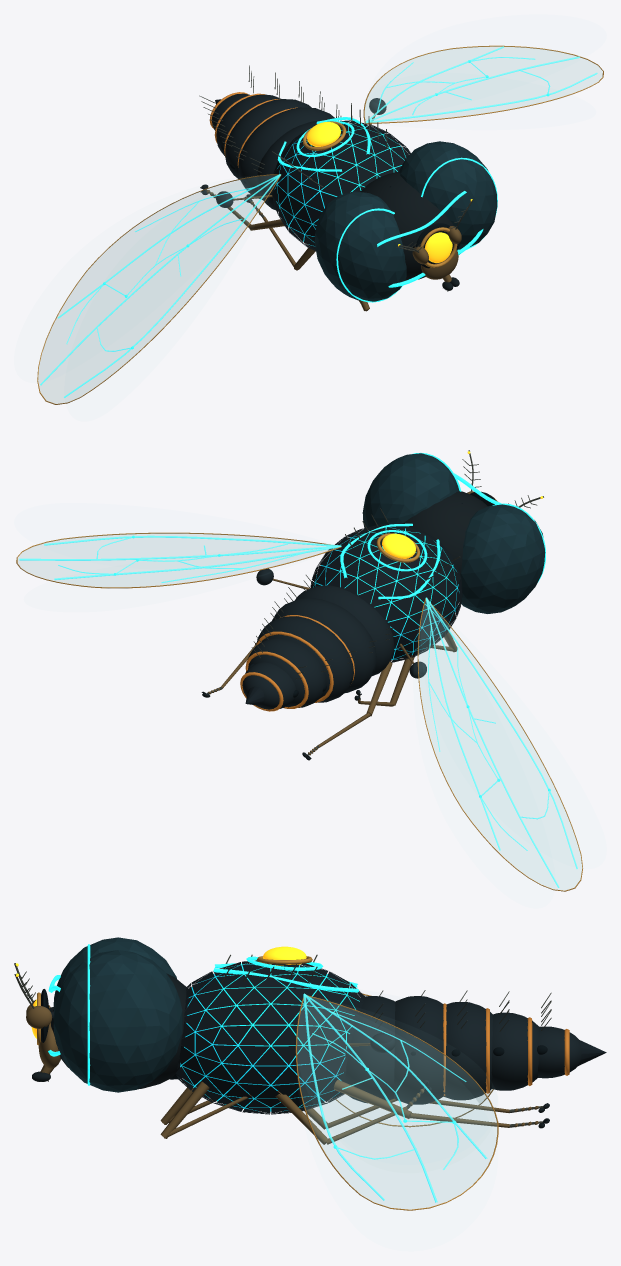
Rendered from mirror-gap-v4.3.0.glb.
3 renders of one model, top to bottom at view 1: azimuth 30°, elevation 25°; view 2: azimuth 150°, elevation 25°; view 3: azimuth 270°, elevation 25°, orthographic. The views are drawn at different scales.
Parts seen in each view (by area): view 1: Thin_wing_membrane (×2), Separate_head_Left_compound_eye_batch, Faceted_obsidian_thorax, Horizontal_segmented_abdomen_Abdominal_segment_1_batch, Head_capsule, Left_single_membrane_wing_Cyan_neural_wing_vein_1_batch, Right_single_membrane_wing_Cyan_neural_wing_vein_1_batch, Costal_wing_gold_edge (×2), Thorax_inner_cyan_fissures, Separate_head_Cyan_compound_eye_rim_batch, Thorax_pitch_and_bank_Dorsal_core_cyan_fissure_batch, Dorsal_amber_core (+2 smaller); view 2: Thin_wing_membrane (×2), Separate_head_Left_compound_eye_batch, Horizontal_segmented_abdomen_Abdominal_segment_1_batch, Faceted_obsidian_thorax, Right_single_membrane_wing_Cyan_neural_wing_vein_1_batch, Head_capsule, Left_single_membrane_wing_Cyan_neural_wing_vein_1_batch, Costal_wing_gold_edge (×2), Thorax_inner_cyan_fissures, Horizontal_segmented_abdomen_Amber_tergite_seam_1_batch, Thorax_pitch_and_bank_Dorsal_core_cyan_fissure_batch, Dorsal_amber_core; view 3: Thin_wing_membrane, Faceted_obsidian_thorax, Horizontal_segmented_abdomen_Abdominal_segment_1_batch, Separate_head_Left_compound_eye_batch, Thorax_inner_cyan_fissures, Right_single_membrane_wing_Cyan_neural_wing_vein_1_batch, Femur (×3), Horizontal_segmented_abdomen_Amber_tergite_seam_1_batch, Costal_wing_gold_edge, Thorax_pitch_and_bank_Dorsal_core_cyan_fissure_batch, Tibia_joint_Tibia_batch (×2), Head_capsule (+5 smaller).
Boxes of the visible parts, x1,y1,x2,y2 form: Thin_wing_membrane (×2): (38, 47, 602, 403); Separate_head_Left_compound_eye_batch: (314, 141, 497, 301); Faceted_obsidian_thorax: (272, 120, 410, 251); Horizontal_segmented_abdomen_Abdominal_segment_1_batch: (212, 93, 334, 210); Head_capsule: (360, 171, 460, 280); Left_single_membrane_wing_Cyan_neural_wing_vein_1_batch: (40, 174, 280, 397); Right_single_membrane_wing_Cyan_neural_wing_vein_1_batch: (365, 46, 597, 123); Costal_wing_gold_edge (×2): (37, 45, 603, 404); Thorax_inner_cyan_fissures: (274, 123, 405, 246); Separate_head_Cyan_compound_eye_rim_batch: (336, 157, 497, 302); Thorax_pitch_and_bank_Dorsal_core_cyan_fissure_batch: (277, 117, 370, 171); Dorsal_amber_core: (307, 122, 340, 146); Thin_wing_membrane (×2): (18, 534, 581, 890); Separate_head_Left_compound_eye_batch: (362, 453, 545, 613); Horizontal_segmented_abdomen_Abdominal_segment_1_batch: (242, 585, 394, 709); Faceted_obsidian_thorax: (310, 523, 462, 662); Right_single_membrane_wing_Cyan_neural_wing_vein_1_batch: (19, 535, 341, 582); Head_capsule: (402, 491, 487, 583); Left_single_membrane_wing_Cyan_neural_wing_vein_1_batch: (425, 597, 577, 887); Costal_wing_gold_edge (×2): (16, 532, 582, 891); Thorax_inner_cyan_fissures: (313, 527, 459, 659); Horizontal_segmented_abdomen_Amber_tergite_seam_1_batch: (240, 615, 354, 711); Thorax_pitch_and_bank_Dorsal_core_cyan_fissure_batch: (340, 523, 440, 599); Dorsal_amber_core: (382, 533, 415, 558); Thin_wing_membrane: (297, 998, 496, 1209); Faceted_obsidian_thorax: (176, 960, 364, 1114); Horizontal_segmented_abdomen_Abdominal_segment_1_batch: (344, 996, 581, 1104); Separate_head_Left_compound_eye_batch: (53, 937, 182, 1092); Thorax_inner_cyan_fissures: (180, 964, 359, 1111); Right_single_membrane_wing_Cyan_neural_wing_vein_1_batch: (303, 993, 487, 1202); Femur (×3): (160, 1079, 411, 1144); Horizontal_segmented_abdomen_Amber_tergite_seam_1_batch: (443, 1003, 569, 1095); Costal_wing_gold_edge: (295, 995, 498, 1210); Thorax_pitch_and_bank_Dorsal_core_cyan_fissure_batch: (213, 956, 358, 992); Tibia_joint_Tibia_batch (×2): (326, 1089, 538, 1144); Head_capsule: (51, 973, 188, 1089).
Bounding box in the file's own units: 2.05 × 1.01 × 1.48.
